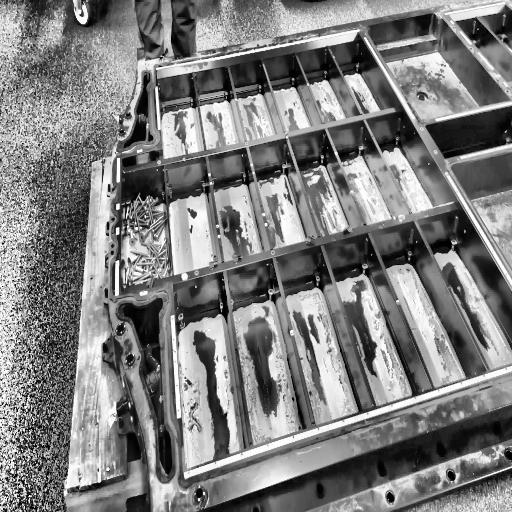b_casing: (108, 0, 511, 512)
